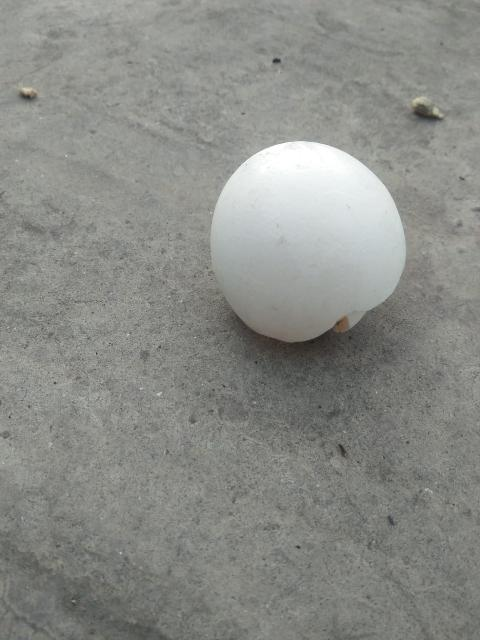Roto: (209, 139, 407, 343)
